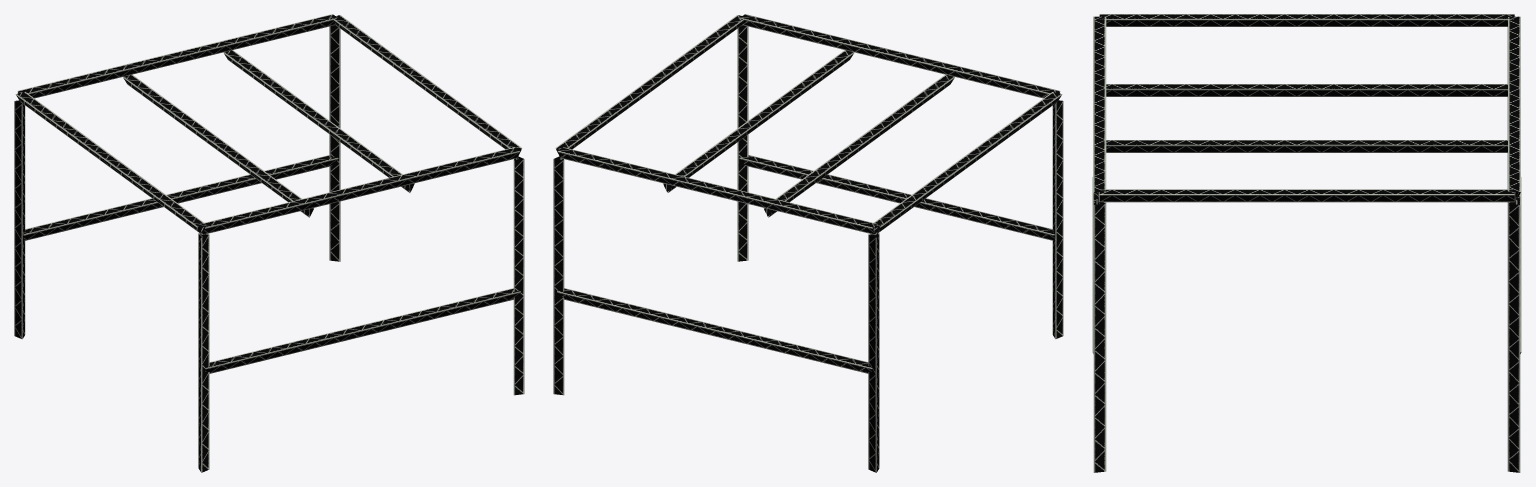
The model's file is cyberzoo_poles.dae.
3 views of the same model, side by side, from view 1: azimuth 30°, elevation 25°; view 2: azimuth 150°, elevation 25°; view 3: azimuth 270°, elevation 25° (orthographic). The views are drawn at different scales.
Parts seen in each view (by area): view 1: instance_4, instance_12, instance_2, instance_3, instance_1, instance_10, instance_6, instance_11, instance_5, instance_8, instance_9, instance_7; view 2: instance_2, instance_3, instance_4, instance_12, instance_6, instance_1, instance_7, instance_11, instance_5, instance_9, instance_8, instance_10; view 3: instance_5, instance_11, instance_8, instance_9, instance_7, instance_10, instance_4, instance_2.
Boxes of the visible parts, x1,y1,x2,y2 form: instance_4: (200,147,519,234); instance_12: (205,288,520,373); instance_2: (17,14,337,98); instance_3: (23,155,338,240); instance_1: (198,233,209,472); instance_10: (513,156,524,395); instance_6: (14,100,25,339); instance_11: (15,92,205,234); instance_5: (331,15,521,155); instance_8: (123,74,313,217); instance_9: (223,50,414,192); instance_7: (329,25,340,261); instance_2: (557,147,877,234); instance_3: (557,288,872,373); instance_4: (740,14,1060,98); instance_12: (739,155,1054,240); instance_6: (868,233,879,472); instance_1: (1052,100,1063,339); instance_7: (553,156,564,395); instance_11: (873,92,1062,234); instance_5: (555,15,744,154); instance_9: (663,50,854,192); instance_8: (763,74,954,217); instance_10: (737,25,748,261); instance_5: (1099,189,1514,202); instance_11: (1099,14,1514,26); instance_8: (1106,84,1507,96); instance_9: (1106,140,1507,152); instance_7: (1507,200,1520,472); instance_10: (1093,200,1106,472); instance_4: (1093,16,1106,201); instance_2: (1508,16,1520,201).
Size of the model in its own units: 382 by 383 by 274.
Materials: 1 (1 with a texture image).
